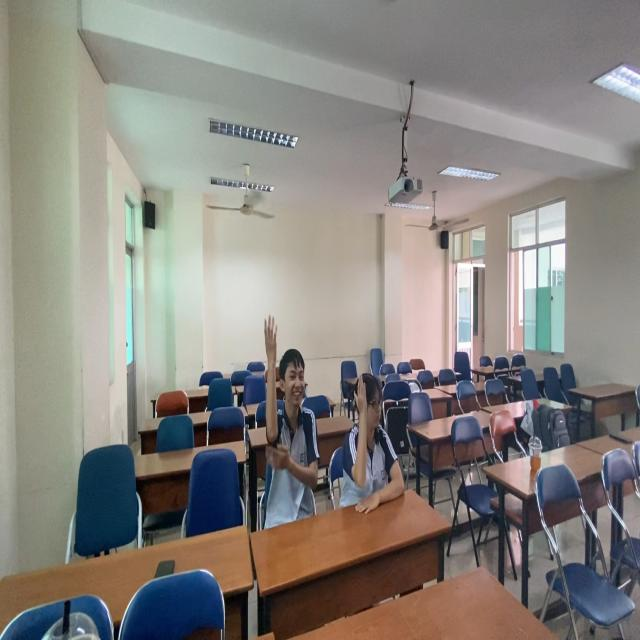raise_hand: (248, 311, 327, 541), (338, 360, 412, 527)
